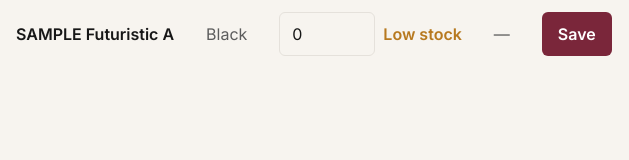
Test: InventoryRow save errors › shows Saved on success
The image size is (629, 160).
Replace the text in the number field named "Stock for SAMPLE Futuristic A" with "10": (327, 34) [279,12,375,56]
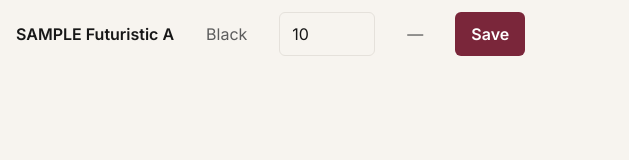
Click the button "Save": (490, 34) [455,12,525,56]
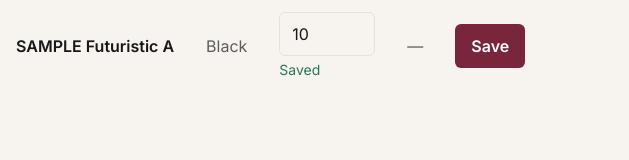
expect the message reads "Saved": met, box [279,61,320,78]
